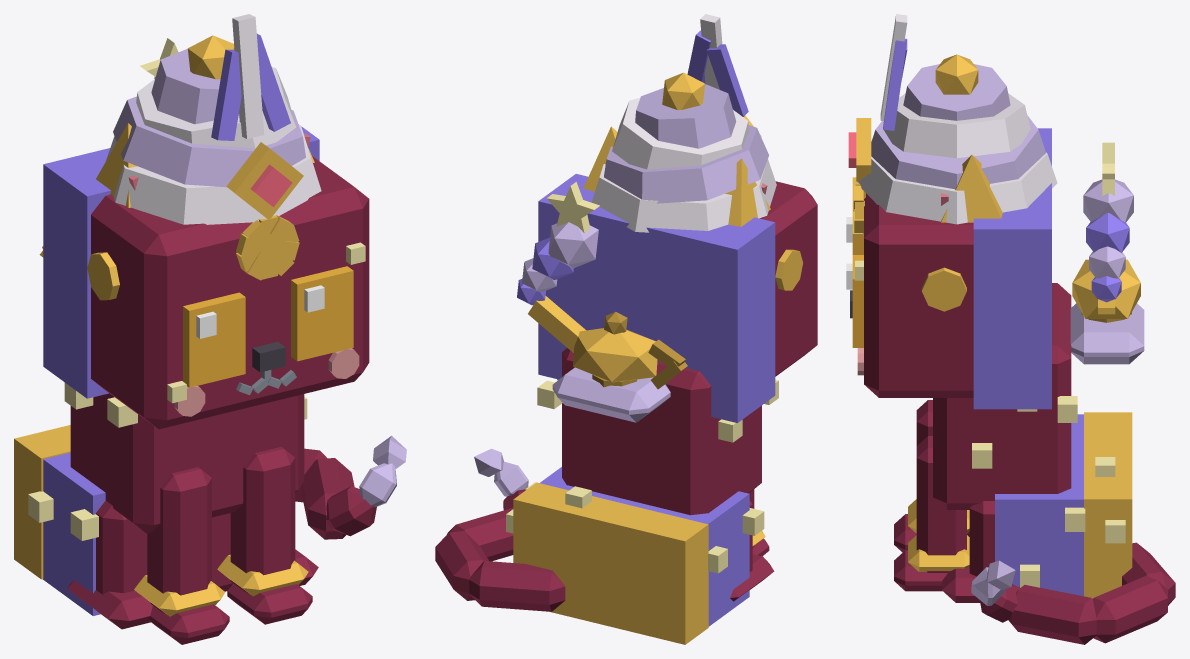
File: CleanACat_Cat_Djinn_Sit.fbx
The picture shows the model from 3 angles, left to right: view 1: azimuth 30°, elevation 25°; view 2: azimuth 150°, elevation 25°; view 3: azimuth 270°, elevation 25°; orthographic projection. The views are drawn at different scales.
Parts seen in each view (by area): view 1: CleanACat_Cat_Djinn_Sit_Head, CleanACat_Cat_Djinn_Sit_Body, CleanACat_Cat_Djinn_Sit_Prop, CleanACat_Cat_Djinn_Sit_LegF1, CleanACat_Cat_Djinn_Sit_LegF2, CleanACat_Cat_Djinn_Sit_Tail, CleanACat_Cat_Djinn_Sit_Eye1, CleanACat_Cat_Djinn_Sit_Eye2, CleanACat_Cat_Djinn_Sit_EarR, CleanACat_Cat_Djinn_Sit_Glow; view 2: CleanACat_Cat_Djinn_Sit_Body, CleanACat_Cat_Djinn_Sit_Head, CleanACat_Cat_Djinn_Sit_Prop, CleanACat_Cat_Djinn_Sit_Prop2, CleanACat_Cat_Djinn_Sit_Tail, CleanACat_Cat_Djinn_Sit_EarR, CleanACat_Cat_Djinn_Sit_EarL; view 3: CleanACat_Cat_Djinn_Sit_Body, CleanACat_Cat_Djinn_Sit_Head, CleanACat_Cat_Djinn_Sit_Prop, CleanACat_Cat_Djinn_Sit_Prop2, CleanACat_Cat_Djinn_Sit_Tail, CleanACat_Cat_Djinn_Sit_LegF1, CleanACat_Cat_Djinn_Sit_EarL, CleanACat_Cat_Djinn_Sit_LegF2, CleanACat_Cat_Djinn_Sit_Eye1.
Part boxes in pixels (<box>): CleanACat_Cat_Djinn_Sit_Head: <box>43,126,369,429</box>; CleanACat_Cat_Djinn_Sit_Body: <box>14,382,318,629</box>; CleanACat_Cat_Djinn_Sit_Prop: <box>87,14,321,300</box>; CleanACat_Cat_Djinn_Sit_LegF1: <box>217,446,312,624</box>; CleanACat_Cat_Djinn_Sit_LegF2: <box>134,467,229,644</box>; CleanACat_Cat_Djinn_Sit_Tail: <box>295,435,406,539</box>; CleanACat_Cat_Djinn_Sit_Eye1: <box>291,266,353,361</box>; CleanACat_Cat_Djinn_Sit_Eye2: <box>183,292,245,387</box>; CleanACat_Cat_Djinn_Sit_EarR: <box>96,123,138,207</box>; CleanACat_Cat_Djinn_Sit_Glow: <box>250,164,292,206</box>; CleanACat_Cat_Djinn_Sit_Body: <box>506,348,778,644</box>; CleanACat_Cat_Djinn_Sit_Head: <box>538,174,817,422</box>; CleanACat_Cat_Djinn_Sit_Prop: <box>591,14,802,290</box>; CleanACat_Cat_Djinn_Sit_Prop2: <box>517,182,687,422</box>; CleanACat_Cat_Djinn_Sit_Tail: <box>435,448,565,611</box>; CleanACat_Cat_Djinn_Sit_EarR: <box>725,158,770,226</box>; CleanACat_Cat_Djinn_Sit_EarL: <box>583,126,617,191</box>; CleanACat_Cat_Djinn_Sit_Body: <box>933,283,1132,602</box>; CleanACat_Cat_Djinn_Sit_Head: <box>850,128,1051,409</box>; CleanACat_Cat_Djinn_Sit_Prop: <box>856,14,1057,311</box>; CleanACat_Cat_Djinn_Sit_Prop2: <box>1070,142,1144,364</box>; CleanACat_Cat_Djinn_Sit_Tail: <box>971,542,1175,644</box>; CleanACat_Cat_Djinn_Sit_LegF1: <box>894,436,969,591</box>; CleanACat_Cat_Djinn_Sit_EarL: <box>941,155,1002,222</box>; CleanACat_Cat_Djinn_Sit_LegF2: <box>894,400,969,552</box>; CleanACat_Cat_Djinn_Sit_Eye1: <box>846,255,863,347</box>.
Bounding box in the file's own units: 1.3 × 2.28 × 1.24.
1 material, 1 textured.
